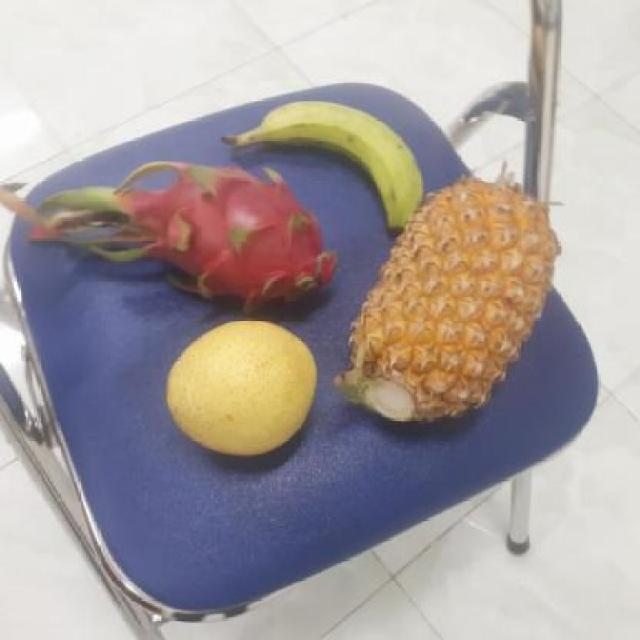banana: (251, 100, 426, 234)
dragon fruit: (124, 165, 342, 317)
pear: (162, 320, 322, 458)
pineapple: (343, 184, 562, 424)
